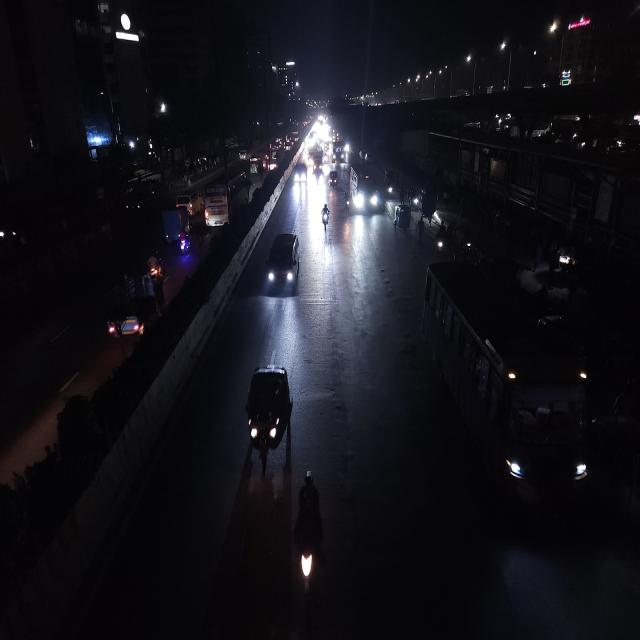bus: (422, 257, 594, 539), (202, 160, 250, 233), (347, 158, 383, 218), (332, 143, 344, 163)
car: (264, 228, 303, 296), (174, 188, 200, 214), (248, 158, 260, 175), (238, 148, 248, 160)
cng: (242, 360, 296, 470), (382, 165, 398, 198), (393, 202, 410, 233), (328, 169, 339, 191)
motorcycle: (290, 470, 328, 621), (177, 224, 193, 258), (432, 220, 448, 254), (148, 249, 165, 280), (319, 201, 332, 232), (342, 192, 352, 213)
pedestrian: (415, 214, 426, 243)
pickup_van: (104, 262, 168, 347)
truck: (293, 161, 309, 186), (313, 150, 323, 173)
